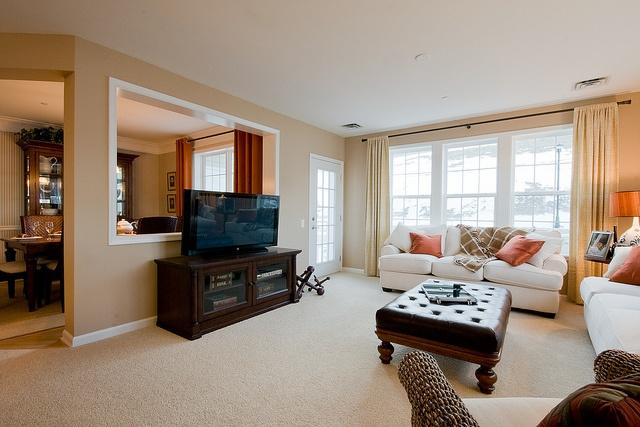AIO PC-Monitor-TV: (180, 188, 280, 257)
